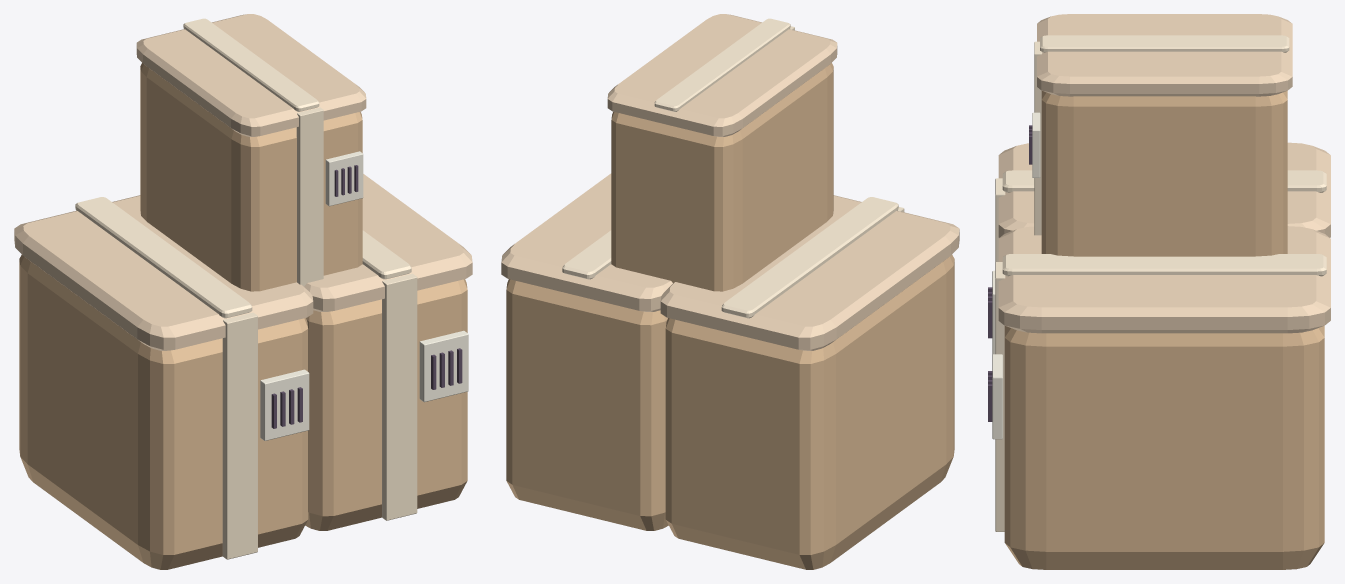
File: stack_boxes.glb
The picture shows the model from 3 angles, left to right: view 1: azimuth 30°, elevation 25°; view 2: azimuth 150°, elevation 25°; view 3: azimuth 270°, elevation 25°; orthographic projection. The views are drawn at different scales.
Visible parts, largest first — view 1: decor_carton, decor_lid, model, decor_ribbon, decor_label; view 2: decor_carton, decor_lid, decor_ribbon; view 3: decor_carton, decor_lid, decor_ribbon, model, decor_label.
Part boxes in pixels (x1,y1,x2,y2): decor_carton: [19, 63, 467, 569]; decor_lid: [14, 14, 472, 350]; model: [222, 107, 462, 559]; decor_ribbon: [75, 18, 411, 318]; decor_label: [260, 151, 468, 440]; decor_carton: [506, 63, 954, 569]; decor_lid: [501, 14, 959, 350]; decor_ribbon: [562, 18, 898, 318]; decor_carton: [1004, 90, 1324, 569]; decor_lid: [998, 14, 1330, 333]; decor_ribbon: [1002, 35, 1326, 276]; model: [988, 41, 1042, 531]; decor_label: [992, 112, 1040, 439].
Bounding box in the file's own units: 1.3 × 1.6 × 1.1.
